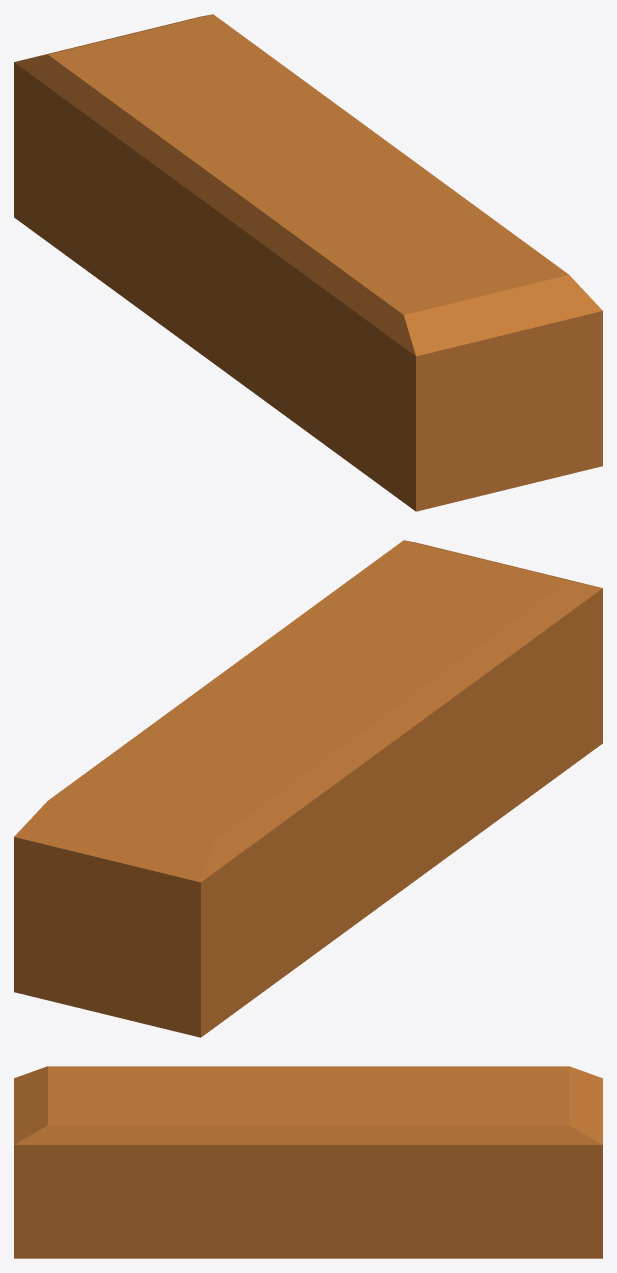
Rendered from copper_ingot_huge.glb.
The picture shows the model from 3 angles, top to bottom: view 1: azimuth 30°, elevation 25°; view 2: azimuth 150°, elevation 25°; view 3: azimuth 270°, elevation 25°; orthographic projection. The views are drawn at different scales.
Visible parts, largest first — view 1: copper_ingot_huge; view 2: copper_ingot_huge; view 3: copper_ingot_huge.
Boxes of the visible parts, bbox=[...] form: copper_ingot_huge: bbox=[14, 14, 602, 511]; copper_ingot_huge: bbox=[14, 540, 602, 1037]; copper_ingot_huge: bbox=[14, 1066, 602, 1258].
Bounding box in the file's own units: 0.1246 × 0.1128 × 0.4643.
